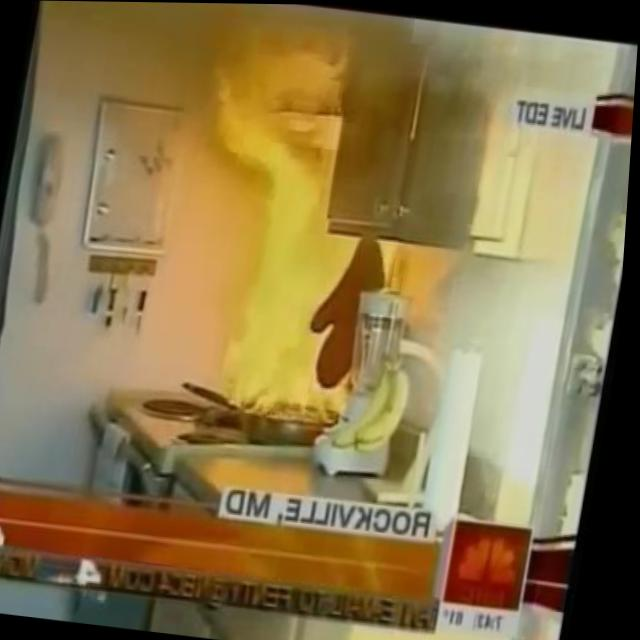fire: (166, 27, 415, 427)
